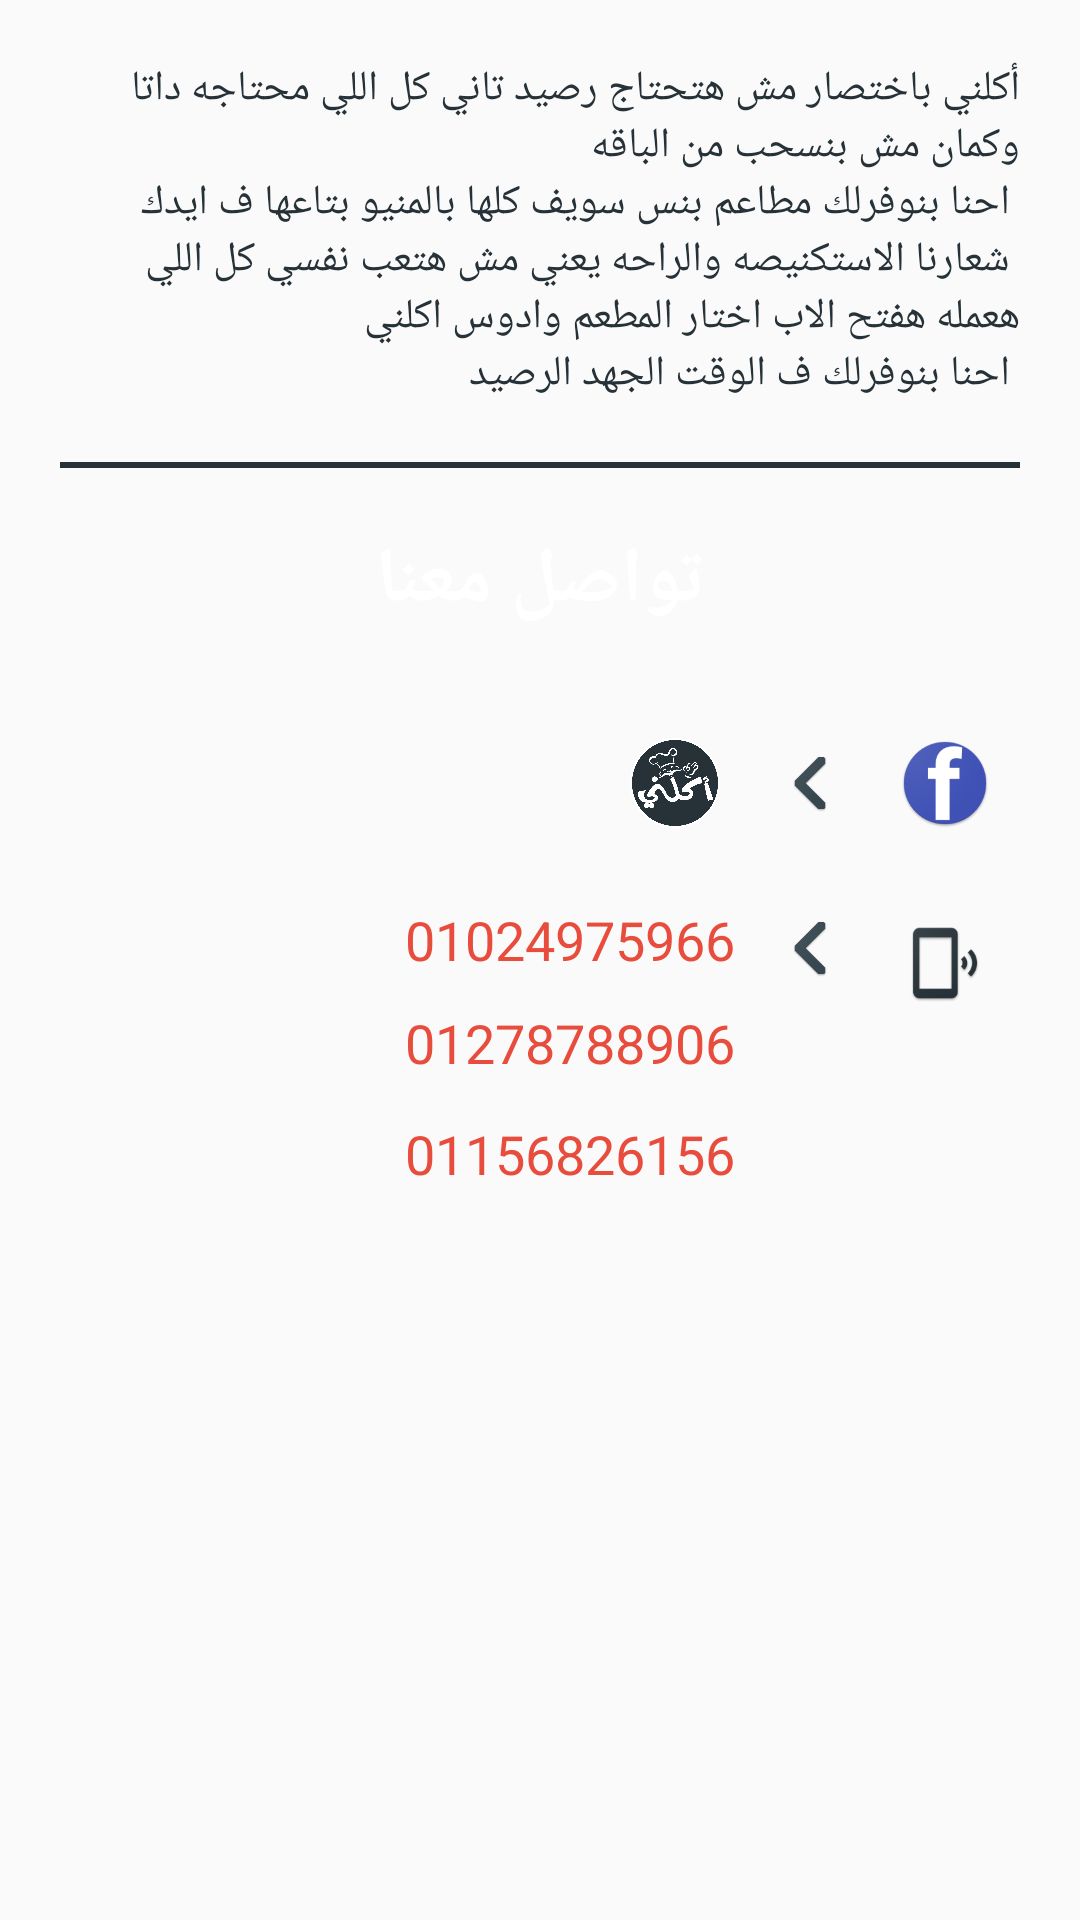

Screen size 1080px×1920px. Icon name, then its box in pixels as (x1, y1, x2, y2):
arrow: (794, 757, 826, 811), (794, 922, 826, 976)
phonenum: (912, 927, 978, 1000)
